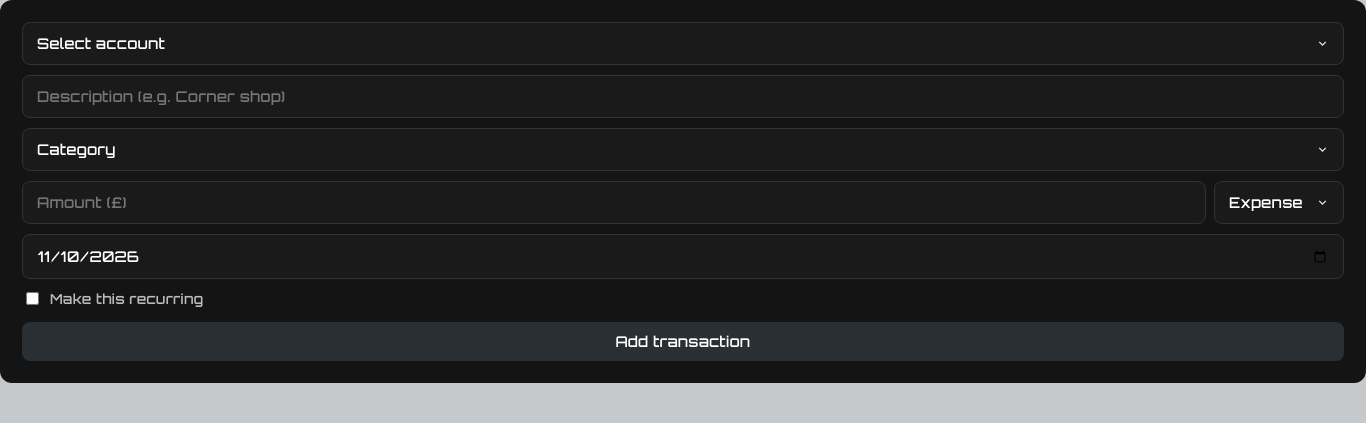
Test: TransactionForm validation › shows an error from the server without losing what was typed
The width and height of the screenshot is (1366, 423).
Select "Current" in the 1st dropdown named "Account" at (683, 44), box [22,22,1344,65]
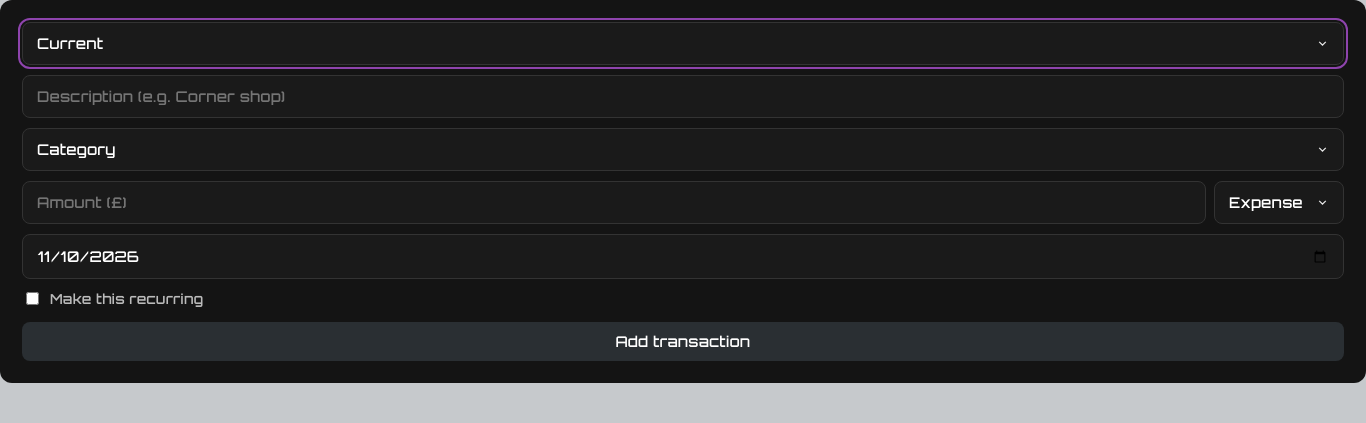
Type "7.20" into the field named "Amount in pounds" at (614, 202), box [22,181,1206,224]
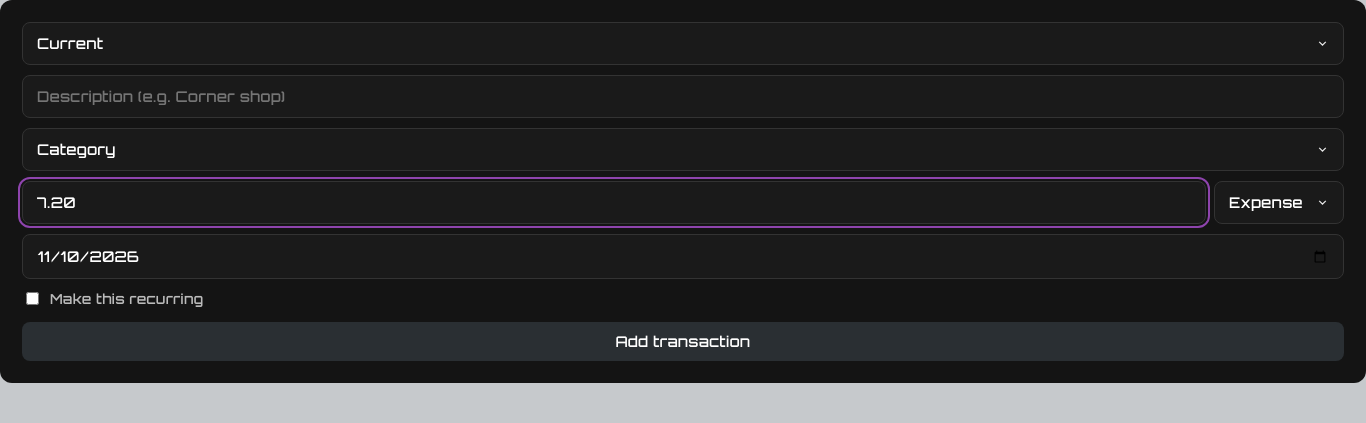
Click the button "Add transaction" at (683, 342), box [22,322,1344,361]
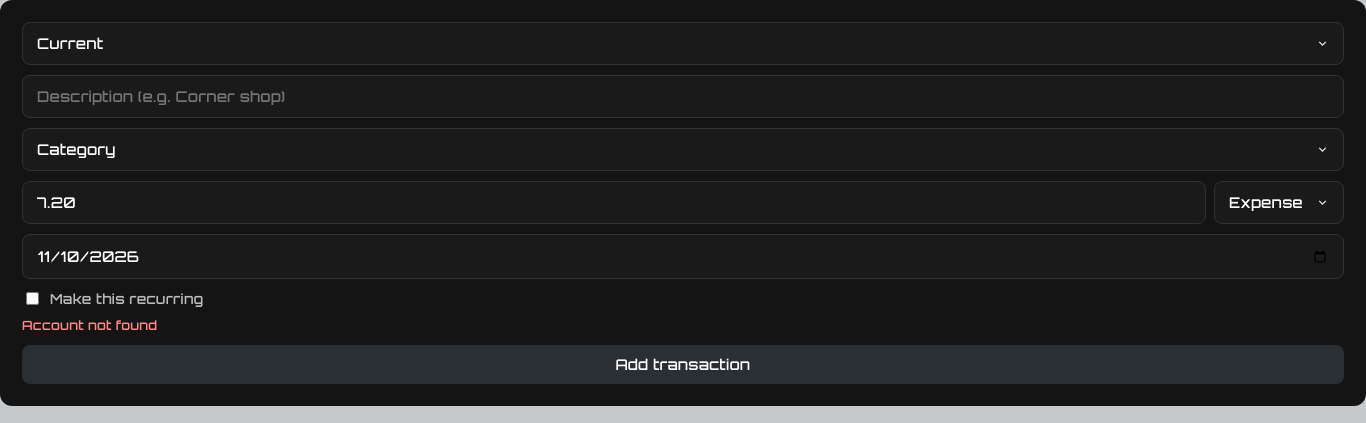
Check: the message reads "Account not found", box [22,318,157,333]
